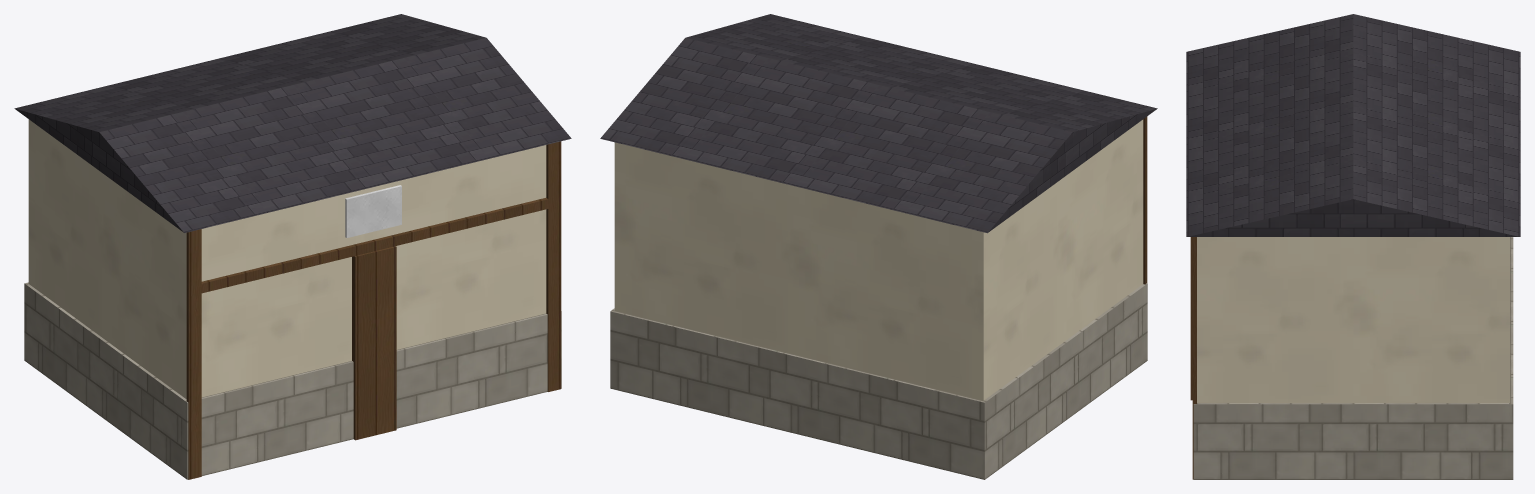
File: wing.governance.glb
3 renders of one model, left to right at view 1: azimuth 30°, elevation 25°; view 2: azimuth 150°, elevation 25°; view 3: azimuth 270°, elevation 25°, orthographic. The views are drawn at different scales.
Visible parts, largest first — view 1: castle.wing.governance; view 2: castle.wing.governance; view 3: castle.wing.governance.
Boxes of the visible parts, bbox=[...] form: castle.wing.governance: bbox=[14, 14, 571, 479]; castle.wing.governance: bbox=[600, 14, 1157, 479]; castle.wing.governance: bbox=[1186, 14, 1520, 479].
Bounding box in the file's own units: 4.2 × 3 × 3.2.
5 materials, 5 textured.
